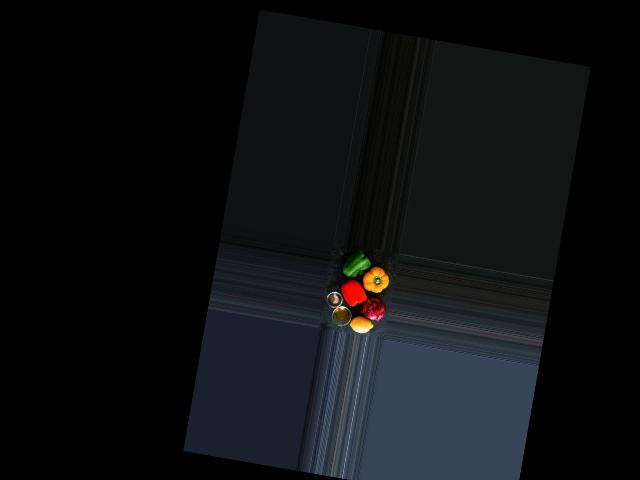bell_pepper: (337, 277, 370, 308)
